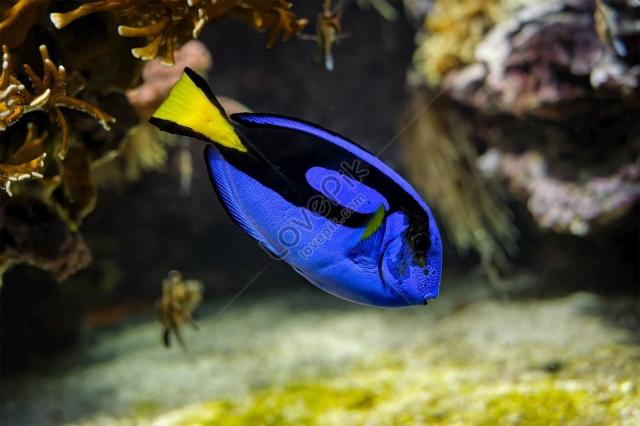Sirip Anal: (196, 136, 284, 260)
Sirip Dada: (334, 185, 394, 278)
Sirip Ekor: (137, 50, 246, 162)
Sirip Perut: (286, 261, 352, 313)
Sirip Punggung: (228, 97, 412, 195), (402, 269, 451, 333)
